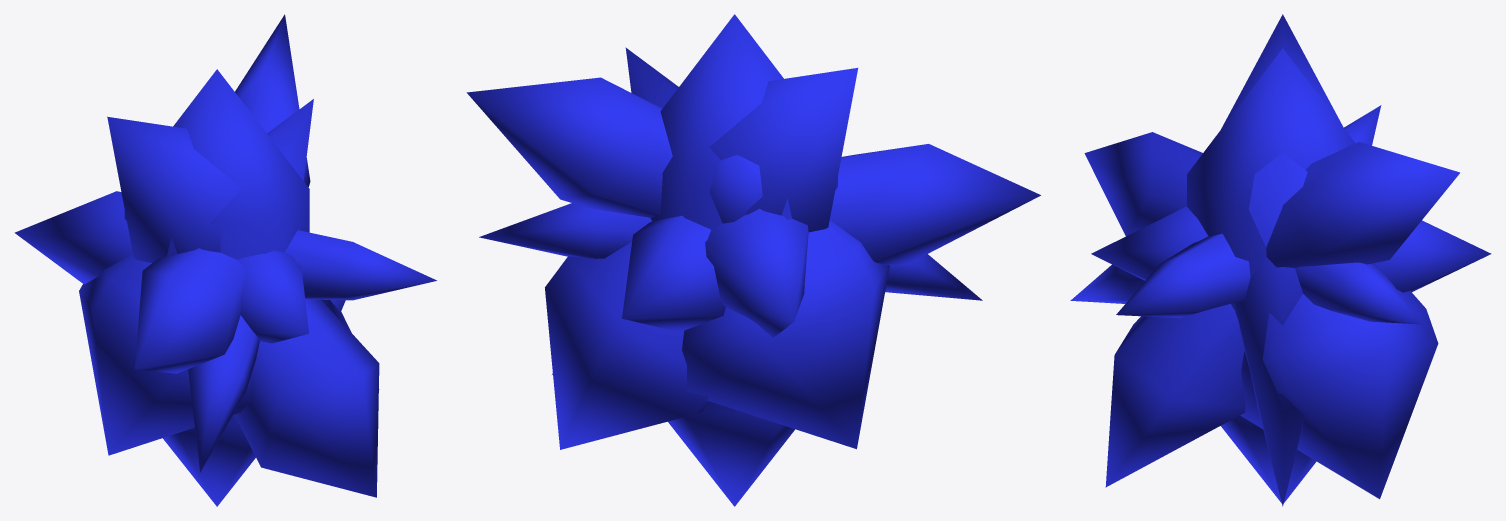
File: BulletCL.FBX
3 renders of one model, left to right at view 1: azimuth 30°, elevation 25°; view 2: azimuth 150°, elevation 25°; view 3: azimuth 270°, elevation 25°, orthographic. The views are drawn at different scales.
Visible parts, largest first — view 1: Cylinder017, Cylinder006, Cylinder013, Cylinder011, Cylinder010, Cylinder015, Cylinder012, Cylinder014; view 2: Cylinder013, Cylinder015, Cylinder012, Cylinder016, Cylinder006, Cylinder011, Cylinder010, Cylinder014, Cylinder017; view 3: Cylinder016, Cylinder017, Cylinder006, Cylinder012, Cylinder015, Cylinder011, Cylinder014, Cylinder010, Cylinder013.
Boxes of the visible parts, x1,y1,x2,y2 form: Cylinder017: (234, 298, 379, 497); Cylinder006: (124, 69, 309, 506); Cylinder013: (79, 99, 313, 455); Cylinder011: (107, 116, 379, 389); Cylinder010: (14, 191, 436, 300); Cylinder015: (135, 248, 248, 373); Cylinder012: (188, 14, 310, 472); Cylinder014: (238, 250, 308, 343); Cylinder013: (625, 47, 889, 449); Cylinder015: (479, 144, 1040, 265); Cylinder012: (466, 77, 982, 300); Cylinder016: (545, 242, 709, 449); Cylinder006: (650, 14, 837, 506); Cylinder011: (552, 68, 858, 374); Cylinder010: (705, 208, 808, 337); Cylinder014: (622, 215, 725, 331); Cylinder017: (709, 155, 762, 223); Cylinder016: (1240, 289, 1438, 499); Cylinder017: (1105, 105, 1381, 487); Cylinder006: (1187, 48, 1355, 503); Cylinder012: (1070, 142, 1459, 303); Cylinder015: (1084, 132, 1424, 324); Cylinder011: (1221, 14, 1342, 506); Cylinder014: (1091, 206, 1491, 292); Cylinder010: (1116, 233, 1250, 318); Cylinder013: (1248, 153, 1307, 247).
Bounding box in the file's own units: 66.82 × 82.25 × 68.77.
